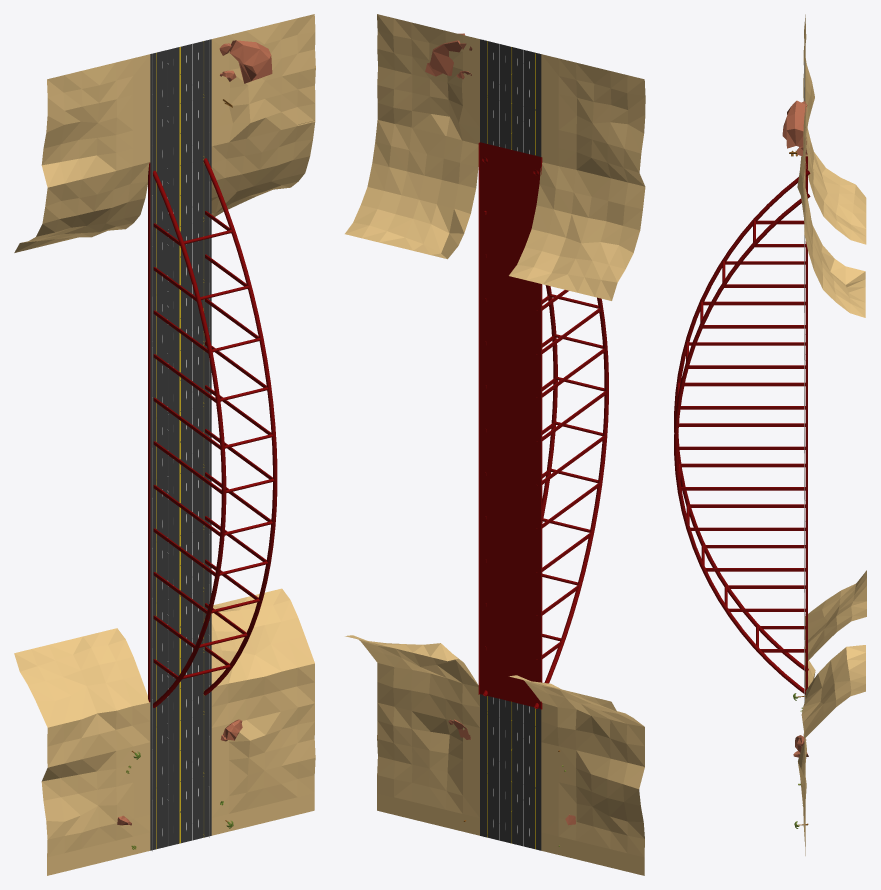
The model's file is Bridge.fbx.
The picture shows the model from 3 angles, left to right: view 1: azimuth 30°, elevation 25°; view 2: azimuth 150°, elevation 25°; view 3: azimuth 270°, elevation 25°; orthographic projection. The views are drawn at different scales.
Visible parts, largest first — view 1: Road_Patch_01, bridge, Ground_17, Ground_22, Ground_16, Ground_07, Ground_18, Ground_21, Ground_20, Ground_19, pasted__guardrail1, Rock_15; view 2: bridge, Road_Patch_01, Ground_19, Ground_20, Ground_16, Ground_22, Ground_07, Ground_21, Ground_18, Ground_17, Rock_15; view 3: bridge, Ground_18, Ground_20, Ground_19, Ground_17, Rock_15, Ground_22, Ground_21, pasted__guardrail1, Ground_07.
Boxes of the visible parts, left/top/right/bottom form: Road_Patch_01: left=150, top=39, right=211, bottom=850; bridge: left=148, top=158, right=277, bottom=707; Ground_17: left=14, top=628, right=150, bottom=767; Ground_22: left=41, top=54, right=150, bottom=187; Ground_16: left=41, top=742, right=150, bottom=875; Ground_07: left=211, top=703, right=315, bottom=835; Ground_18: left=211, top=588, right=314, bottom=727; Ground_21: left=211, top=14, right=315, bottom=146; Ground_20: left=14, top=162, right=150, bottom=252; Ground_19: left=211, top=120, right=315, bottom=216; pasted__guardrail1: left=152, top=40, right=209, bottom=851; Rock_15: left=219, top=40, right=272, bottom=83; bridge: left=478, top=142, right=608, bottom=709; Road_Patch_01: left=480, top=39, right=541, bottom=850; Ground_19: left=345, top=119, right=478, bottom=259; Ground_20: left=509, top=162, right=645, bottom=300; Ground_16: left=541, top=742, right=644, bottom=875; Ground_22: left=541, top=54, right=645, bottom=186; Ground_07: left=377, top=702, right=479, bottom=835; Ground_21: left=377, top=14, right=479, bottom=144; Ground_18: left=345, top=635, right=479, bottom=727; Ground_17: left=509, top=675, right=644, bottom=766; Rock_15: left=425, top=33, right=472, bottom=76; bridge: left=674, top=156, right=810, bottom=694; Ground_18: left=801, top=645, right=865, bottom=773; Ground_20: left=805, top=127, right=866, bottom=244; Ground_19: left=804, top=188, right=865, bottom=317; Ground_17: left=804, top=570, right=866, bottom=698; Rock_15: left=782, top=100, right=807, bottom=155; Ground_22: left=803, top=14, right=814, bottom=134; Ground_21: left=797, top=91, right=806, bottom=231; pasted__guardrail1: left=804, top=61, right=805, bottom=702; Ground_07: left=798, top=744, right=806, bottom=855.
Bounding box in the file's own units: 6993 × 19903 × 4690.
Materials: 2 (2 with a texture image).
